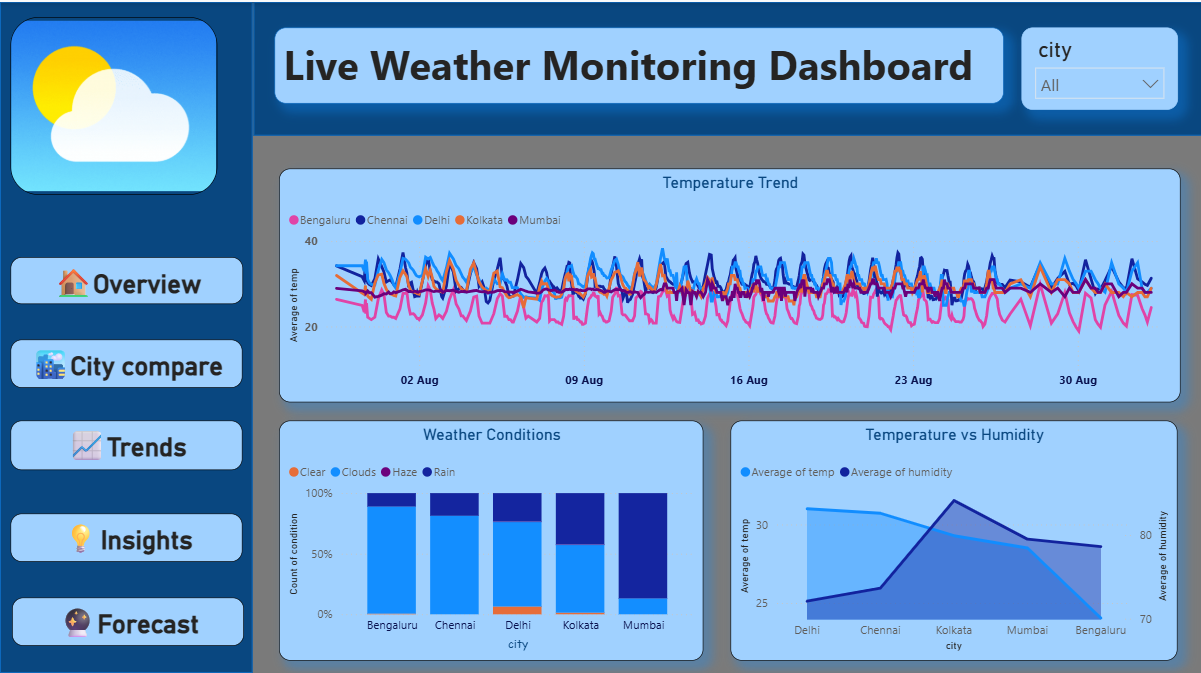

This screenshot's page, from the dashboard's own definition file:
{"tool":"powerbi","page":{"name":"trends ","canvas":[1280,720],"ordinal":2},"visuals":[{"type":"shape","box":[268.3,0,1012.9,141.7],"z":0},{"type":"shape","box":[0,0,267.9,712.5],"z":1000},{"type":"slicer","fields":{"Values":["weather_log.city"]},"box":[1083.9,26.8,166.1,87.5],"z":2000},{"type":"textbox","box":[291.1,26.8,773.2,80.4],"z":3000},{"type":"actionButton","title":"\t🏠Overview","box":[10.7,269.6,246.4,50],"z":4000},{"type":"actionButton","title":"🏙️City compare","box":[11.3,357.2,245.7,51],"z":5000},{"type":"actionButton","title":"📈Trends ","box":[11.3,444.1,245.7,52.9],"z":6000},{"type":"image","box":[11.3,15.1,219.2,189],"z":7000},{"type":"lineChart","title":"Temperature Trend","fields":{"Category":["weather_log.timestamp"],"Y":["Avg(weather_log.temp)"],"Series":["weather_log.city"]},"box":[295.9,176.6,956,248.1],"z":8000},{"type":"areaChart","title":"Temperature vs Humidity","fields":{"Category":["weather_log.city"],"Y":["Avg(weather_log.temp)"],"Y2":["Avg(weather_log.humidity)"]},"box":[774.6,443.8,474,254.5],"z":9000},{"type":"hundredPercentStackedColumnChart","title":"Weather Conditions","fields":{"Category":["weather_log.city"],"Series":["weather_log.condition"],"Y":["CountNonNull(weather_log.condition)"]},"box":[295.9,443.8,450.1,254.5],"z":10000},{"type":"actionButton","title":"💡Insights","box":[11.3,542.4,245.7,51],"z":11000},{"type":"actionButton","title":"🔮Forecast","box":[12,632,245.7,51],"z":12000}]}

Visuals, with their boxes in screenshot pixels (x1, y1, x2, y2), scaled from the page's 1280x720 canvas onto the 1201x673 screenshot:
shape: <box>252,0,1200,132</box>
shape: <box>0,0,251,666</box>
slicer - weather_log.city: <box>1017,25,1173,107</box>
textbox: <box>273,25,999,100</box>
"	🏠Overview" actionButton: <box>10,252,241,299</box>
"🏙️City compare" actionButton: <box>11,334,241,382</box>
"📈Trends " actionButton: <box>11,415,241,465</box>
image: <box>11,14,216,191</box>
"Temperature Trend" lineChart: <box>278,165,1175,397</box>
"Temperature vs Humidity" areaChart: <box>727,415,1172,653</box>
"Weather Conditions" hundredPercentStackedColumnChart: <box>278,415,700,653</box>
"💡Insights" actionButton: <box>11,507,241,555</box>
"🔮Forecast" actionButton: <box>11,591,242,638</box>
